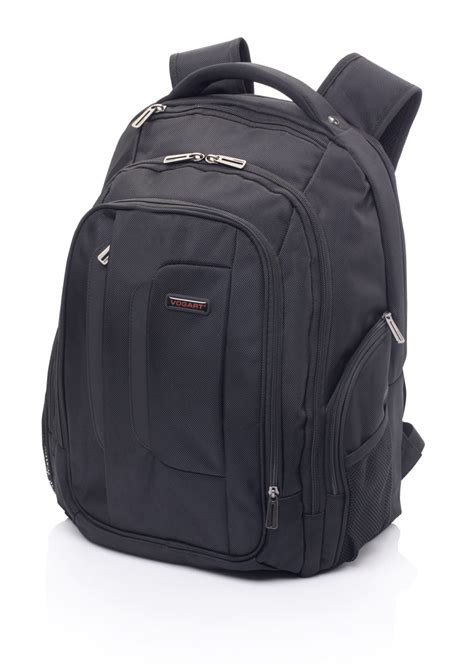nylon: (42, 36, 426, 582)
